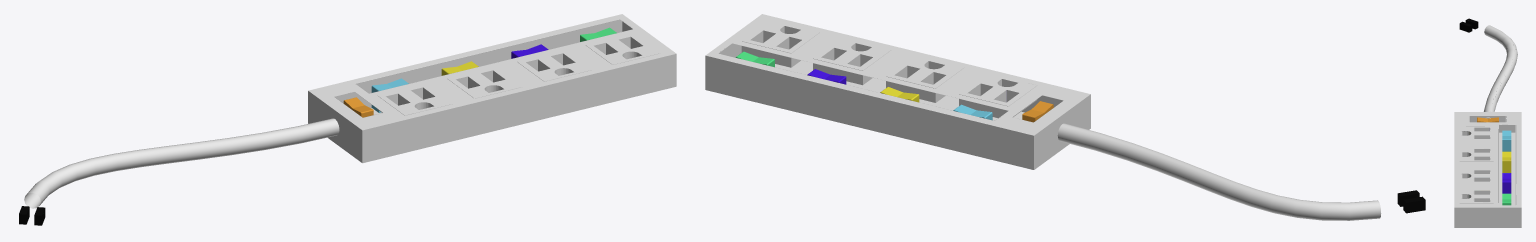
The picture shows the model from 3 angles, left to right: view 1: azimuth 30°, elevation 25°; view 2: azimuth 150°, elevation 25°; view 3: azimuth 270°, elevation 25°; orthographic projection. The views are drawn at different scales.
Visible parts, largest first — view 1: Cube.001, 貝茲曲線.001, 立方體.030, 立方體.027, 立方體.028, 立方體.029, 立方體.021, 立方體.026; view 2: Cube.001, 貝茲曲線.001, 立方體.028, 立方體.029, 立方體.027, 立方體.030, 立方體.021, 立方體.026; view 3: Cube.001, 貝茲曲線.001, 立方體.027, 立方體.028, 立方體.029, 立方體.030, 立方體.024, 立方體.025, 立方體.023, 立方體.021, 立方體.022, 立方體.026.
Boxes of the visible parts, left/top/right/bottom form: Cube.001: left=308, top=14, right=676, bottom=163; 貝茲曲線.001: left=24, top=118, right=339, bottom=208; 立方體.030: left=377, top=84, right=452, bottom=115; 立方體.027: left=585, top=33, right=659, bottom=64; 立方體.028: left=517, top=50, right=591, bottom=81; 立方體.029: left=447, top=67, right=521, bottom=98; 立方體.021: left=19, top=206, right=45, bottom=225; 立方體.026: left=343, top=97, right=373, bottom=117; Cube.001: left=705, top=14, right=1090, bottom=169; 貝茲曲線.001: left=1057, top=123, right=1381, bottom=220; 立方體.028: left=813, top=37, right=891, bottom=85; 立方體.029: left=886, top=55, right=964, bottom=102; 立方體.027: left=741, top=20, right=819, bottom=67; 立方體.030: left=959, top=73, right=1037, bottom=118; 立方體.021: left=1397, top=190, right=1425, bottom=213; 立方體.026: left=1022, top=101, right=1053, bottom=122; Cube.001: left=1454, top=112, right=1521, bottom=227; 貝茲曲線.001: left=1483, top=25, right=1517, bottom=118; 立方體.027: left=1459, top=189, right=1493, bottom=203; 立方體.028: left=1459, top=168, right=1493, bottom=182; 立方體.029: left=1459, top=147, right=1493, bottom=161; 立方體.030: left=1459, top=126, right=1493, bottom=140; 立方體.024: left=1502, top=151, right=1511, bottom=172; 立方體.025: left=1502, top=130, right=1511, bottom=151; 立方體.023: left=1502, top=173, right=1511, bottom=193; 立方體.021: left=1459, top=18, right=1478, bottom=32; 立方體.022: left=1502, top=193, right=1511, bottom=205; 立方體.026: left=1477, top=117, right=1498, bottom=122.
Size of the model in its own units: 4107 by 201 by 598.
